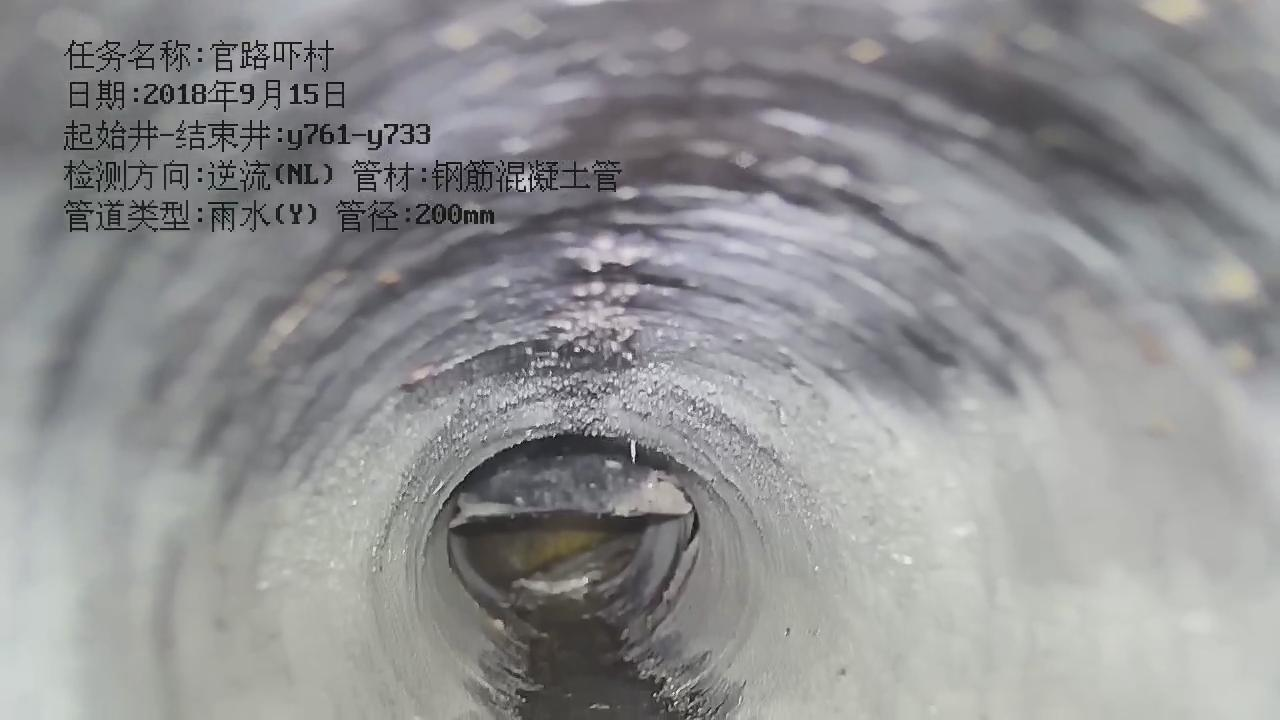YWCR: (452, 447, 692, 526)
